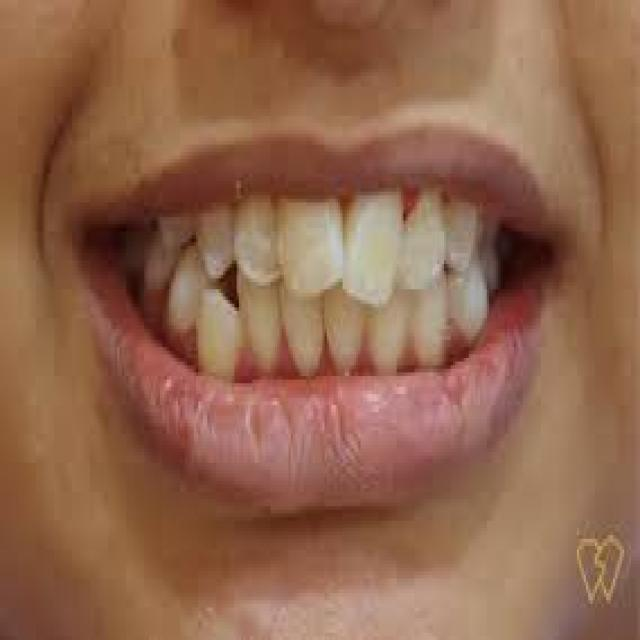tooth: (340, 199, 397, 296), (277, 192, 334, 289), (406, 278, 458, 369), (148, 238, 200, 326), (232, 195, 280, 282), (198, 286, 244, 372), (282, 282, 322, 380), (396, 195, 442, 278), (451, 264, 494, 343), (326, 286, 361, 380), (198, 206, 239, 282), (246, 278, 280, 362), (370, 293, 406, 372), (444, 195, 480, 268), (162, 213, 196, 250)
